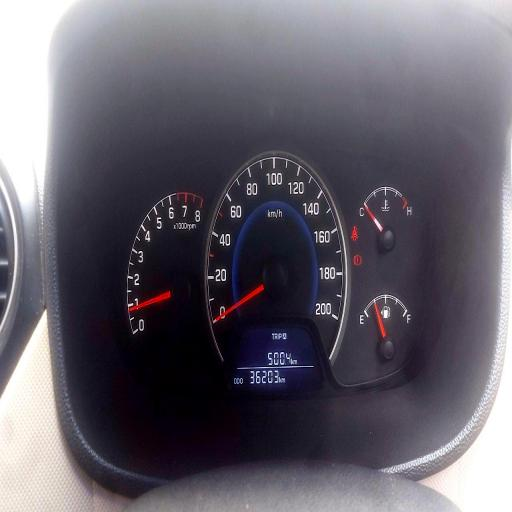belt: (350, 223, 359, 243)
brake_system_fault: (353, 252, 362, 266)
tachometer: (127, 190, 204, 343)
